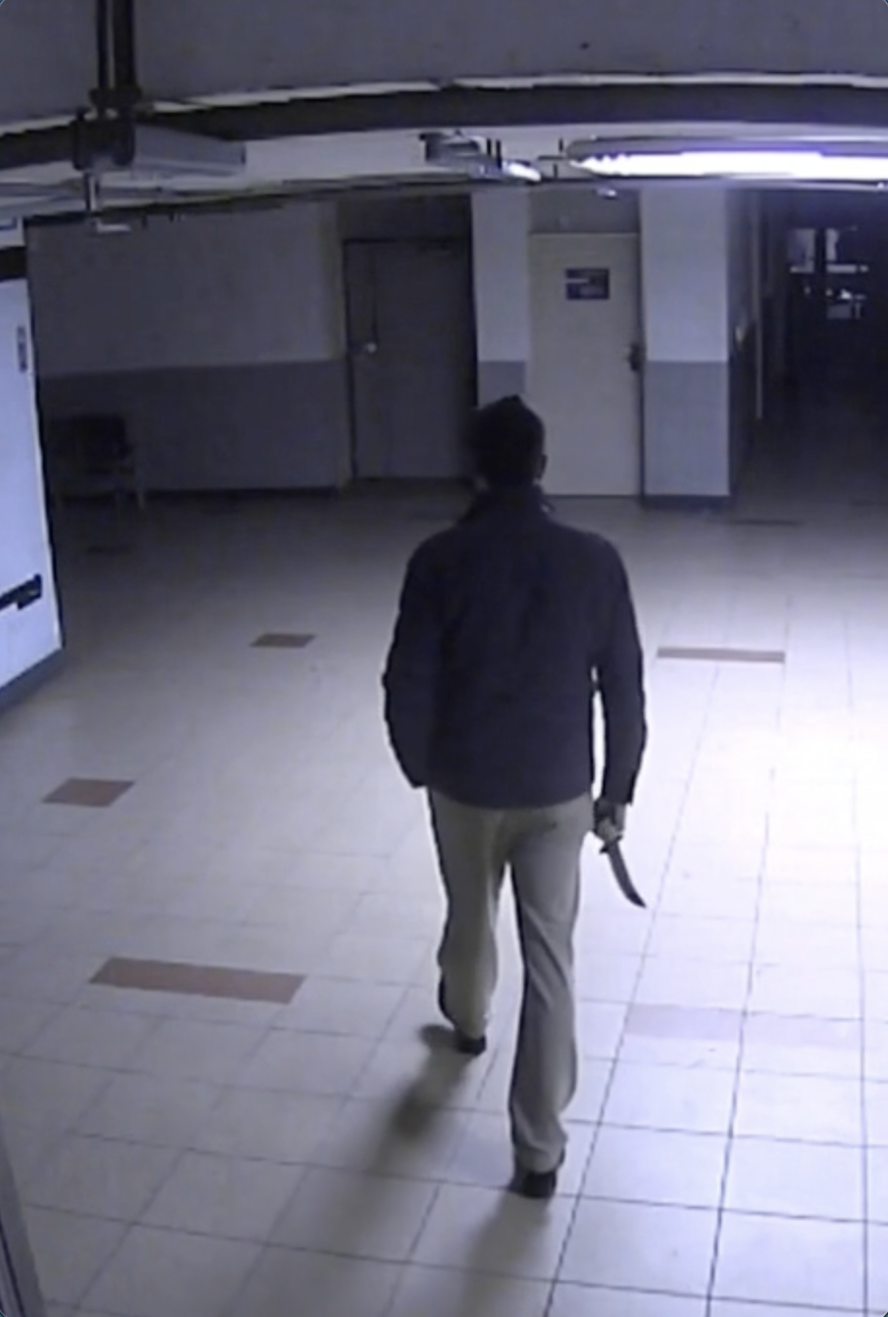Heavy Gun: (375, 388, 653, 1195)
Knife: (578, 795, 649, 912)
